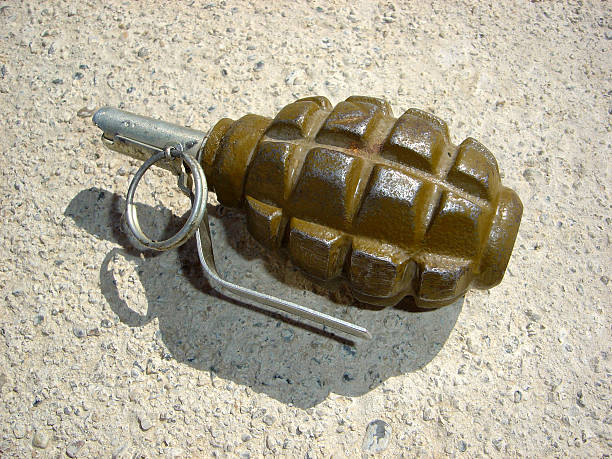e1: (99, 96, 522, 342)
